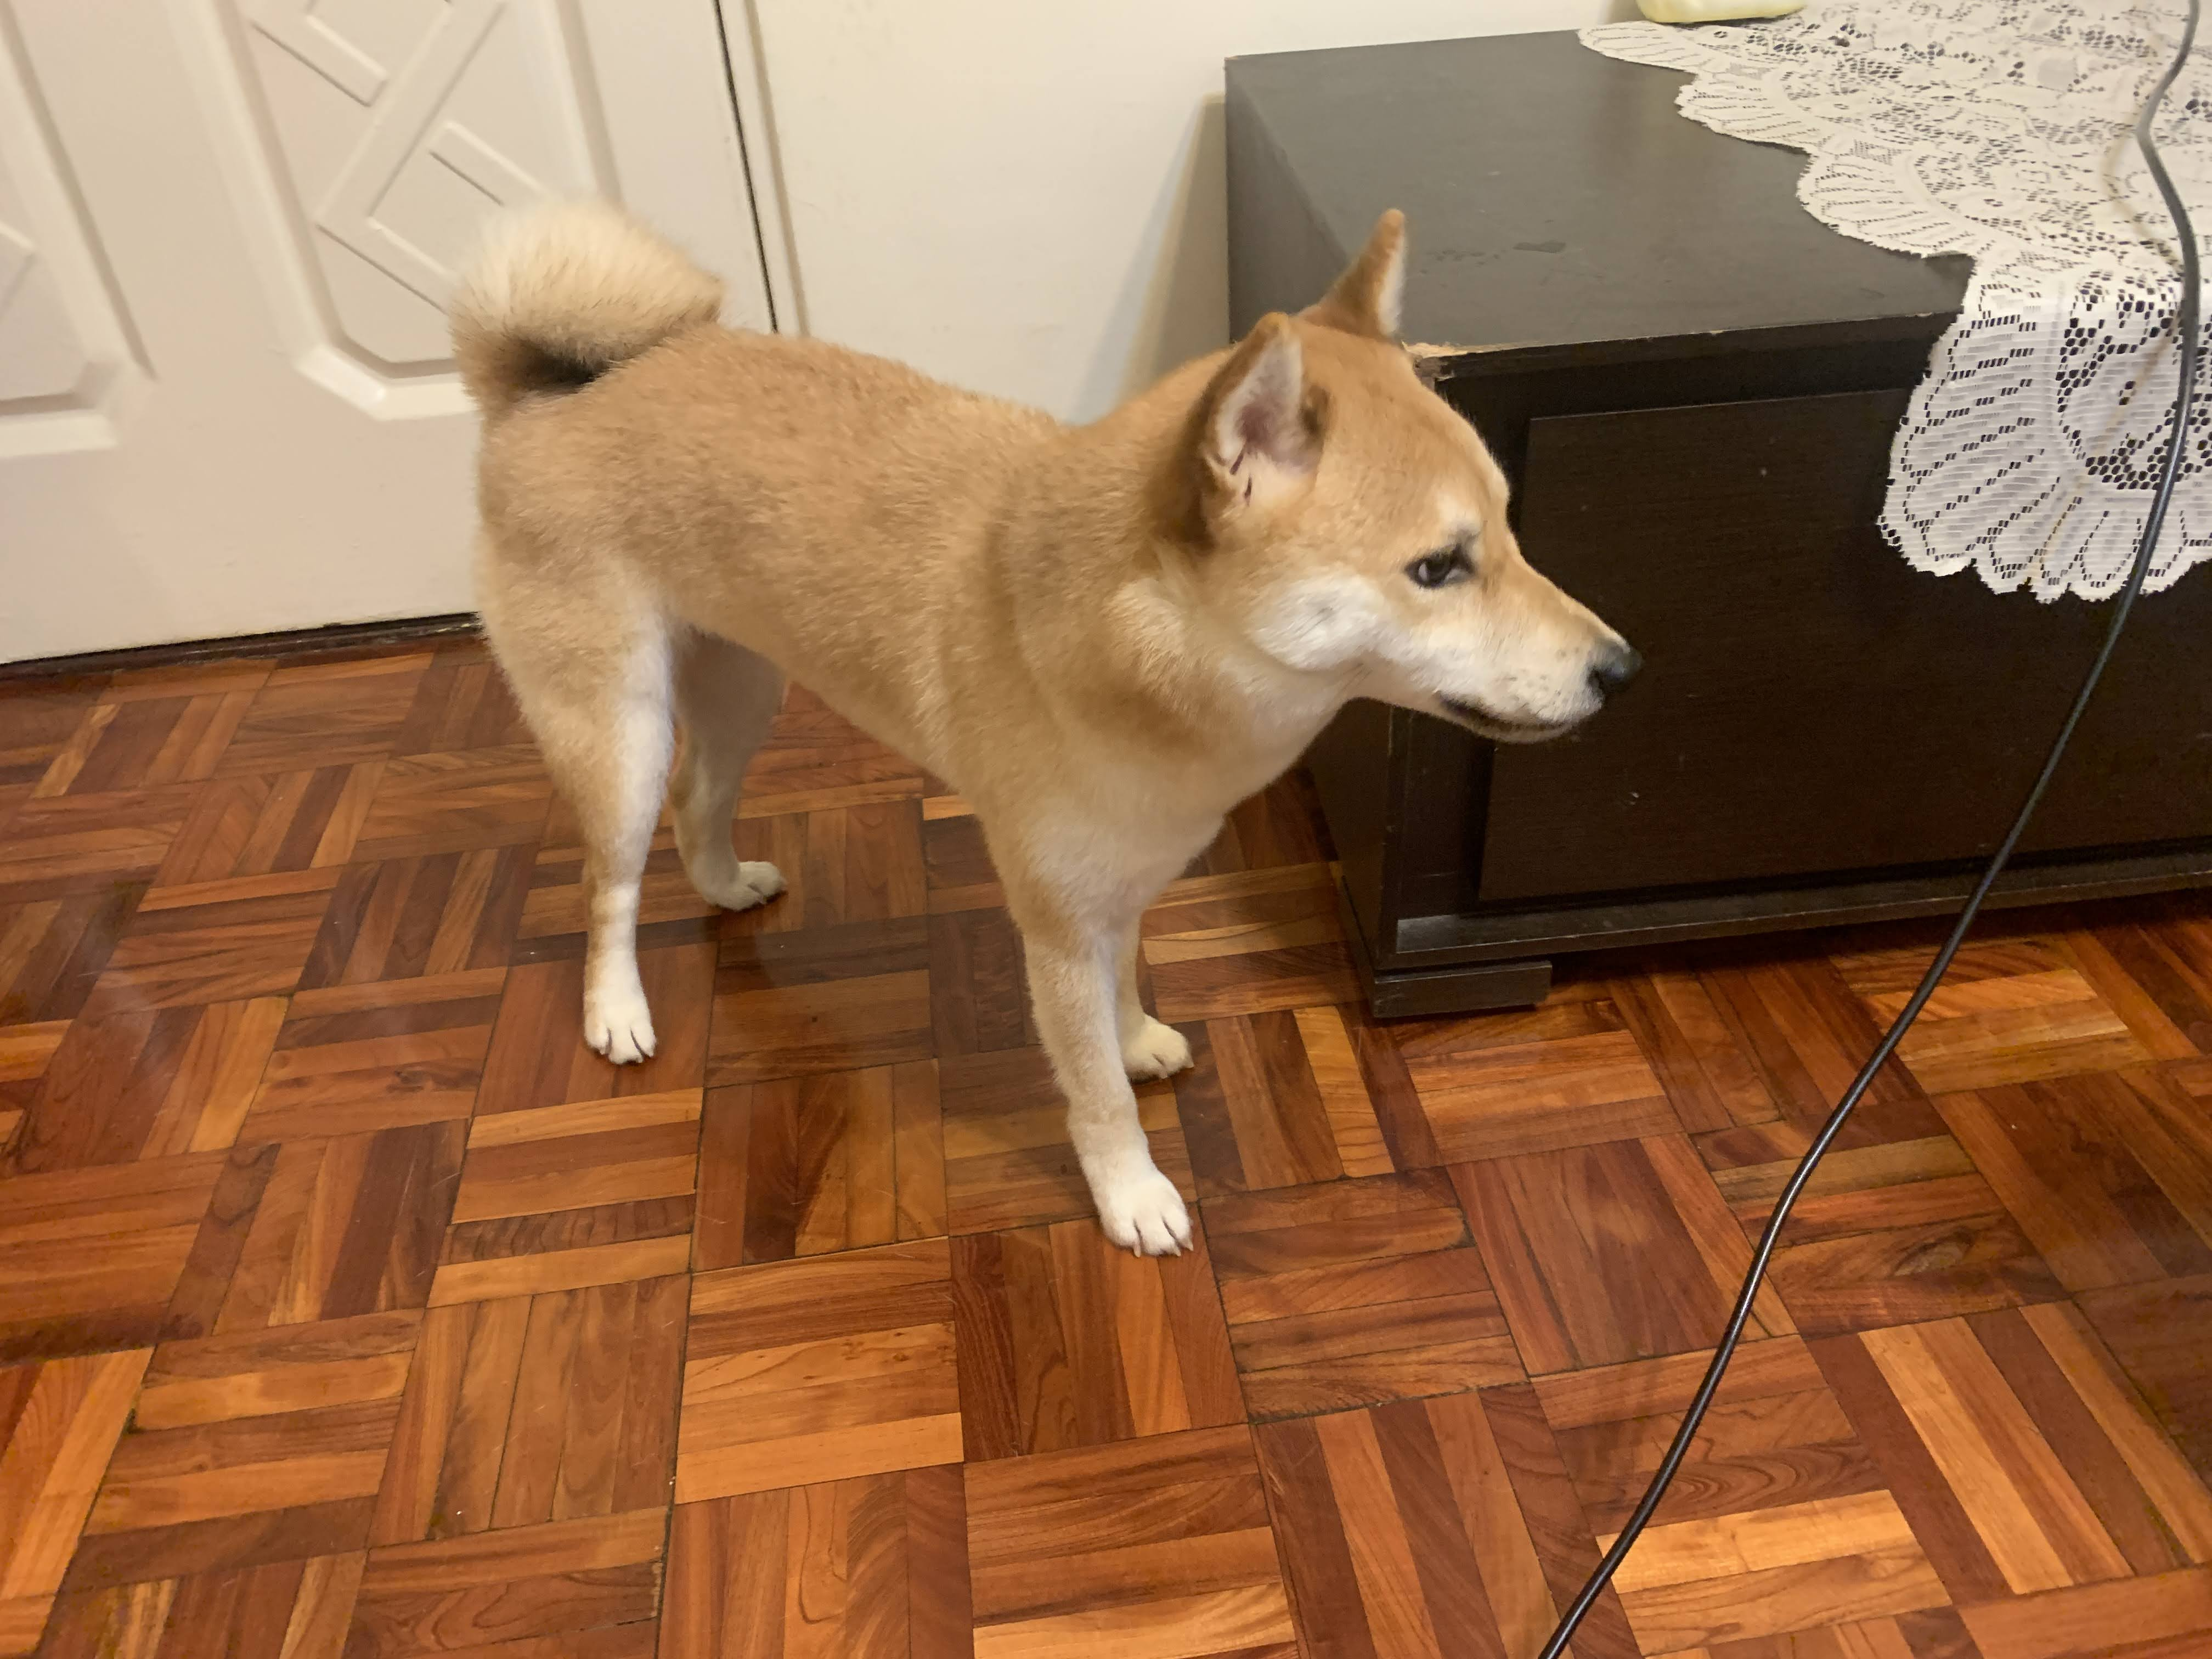Stand up: (409, 183, 1639, 1265)
